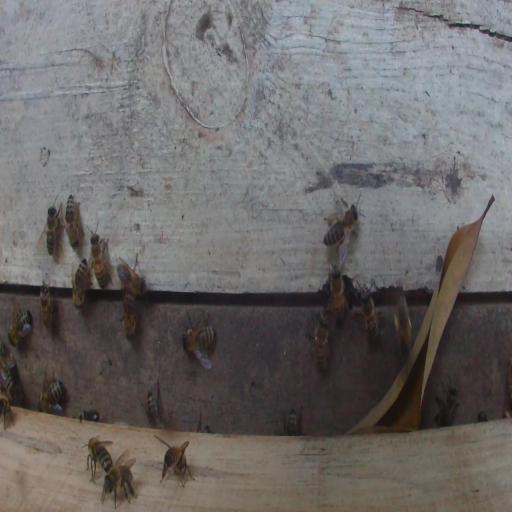bee: (181, 312, 217, 369), (323, 197, 360, 248), (100, 457, 136, 509), (159, 439, 195, 489), (306, 314, 330, 374), (115, 255, 147, 298), (394, 292, 414, 358), (358, 283, 380, 340), (90, 231, 111, 289), (86, 438, 113, 482), (433, 382, 459, 427), (8, 304, 33, 347), (63, 192, 81, 249), (329, 264, 346, 320), (72, 257, 90, 309), (39, 277, 53, 332), (144, 387, 162, 428), (40, 382, 63, 412), (0, 339, 17, 371), (124, 291, 136, 336), (46, 207, 57, 253), (0, 394, 14, 429), (285, 408, 299, 435), (1, 364, 13, 391), (79, 409, 97, 419), (4, 421, 5, 424)
